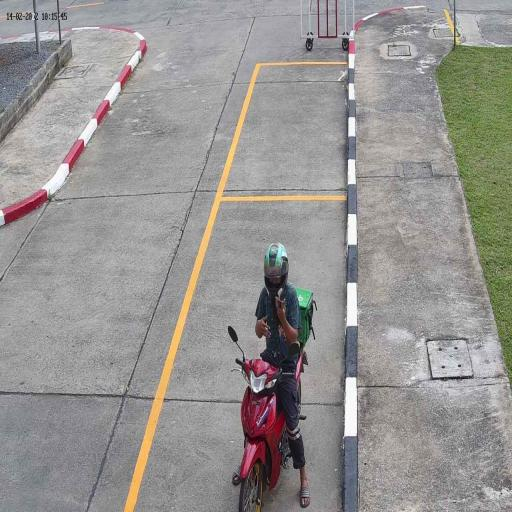motorcycle: (236, 359, 304, 511)
